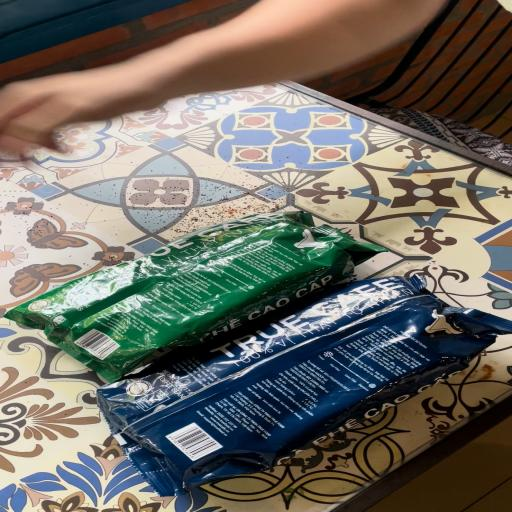cafe_hat: (97, 276, 512, 496)
cafe_xay: (6, 210, 385, 382)
